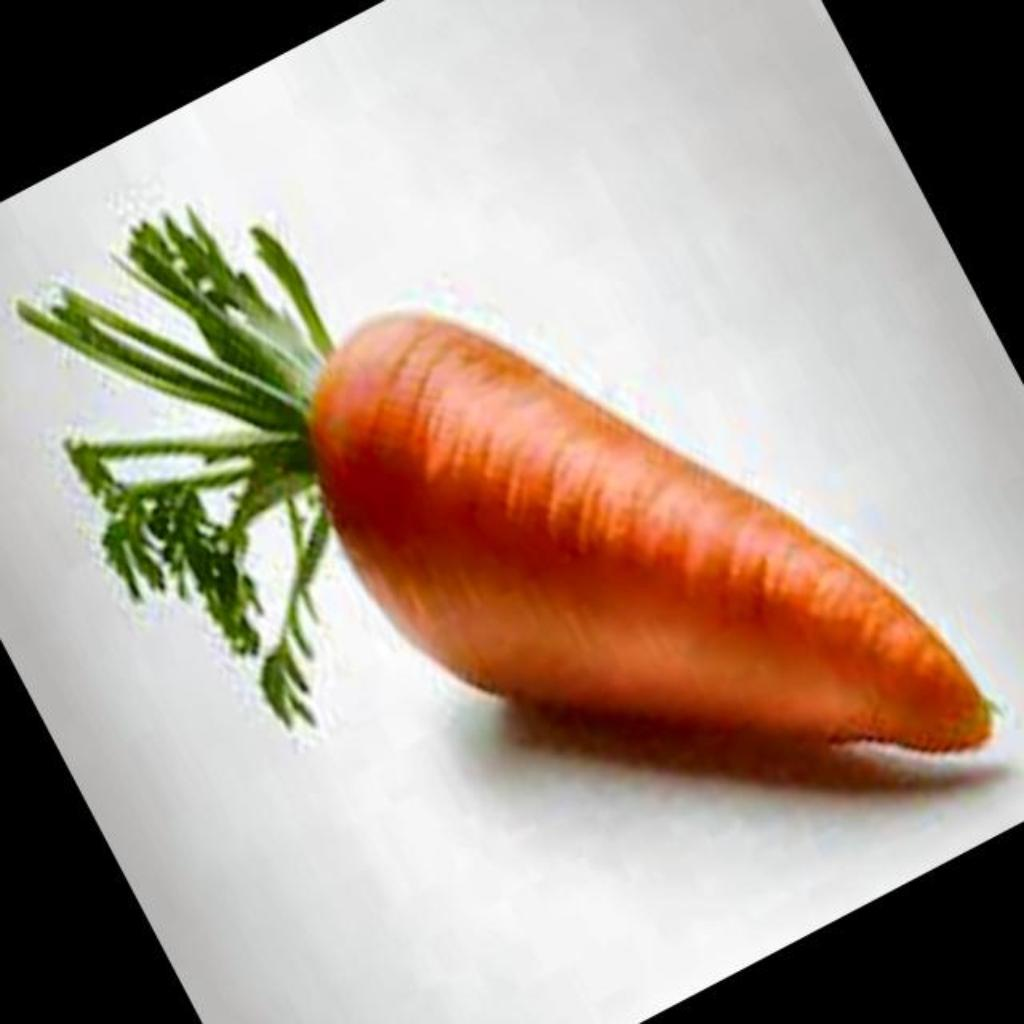carrot: (18, 210, 988, 750)
